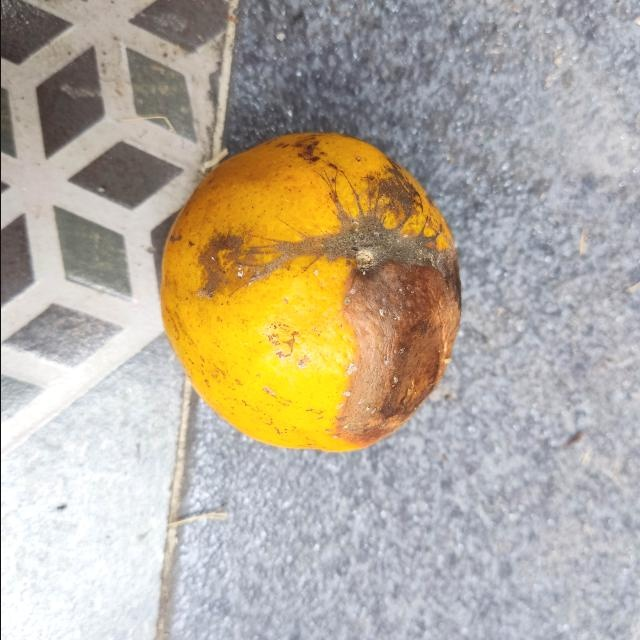agrume: (157, 132, 465, 455)
